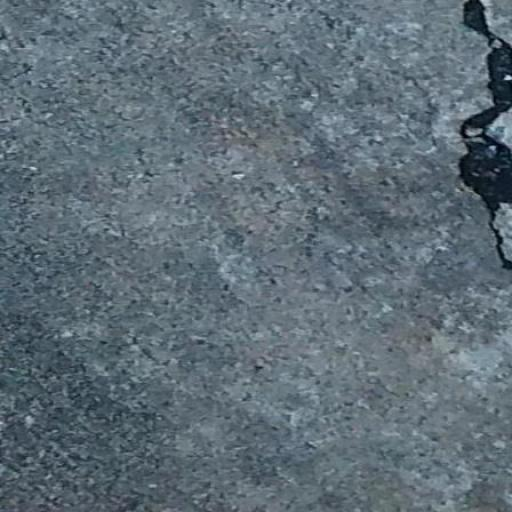spalling: (447, 8, 512, 282)
